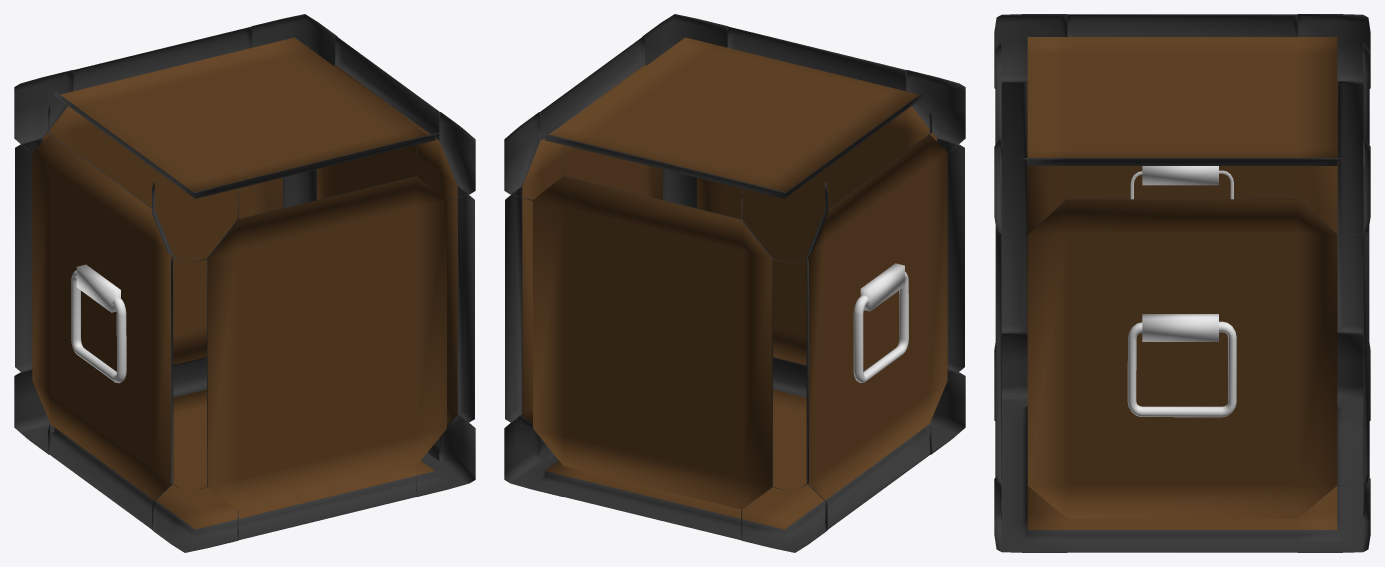
Rendered from Caisse_BasFond_Poignee.fbx.
The picture shows the model from 3 angles, left to right: view 1: azimuth 30°, elevation 25°; view 2: azimuth 150°, elevation 25°; view 3: azimuth 270°, elevation 25°; orthographic projection. The views are drawn at different scales.
Visible parts, largest first — view 1: Cube.002; view 2: Cube.002; view 3: Cube.002.
Boxes of the visible parts, x1,y1,x2,y2 form: Cube.002: (14,14,475,552); Cube.002: (504,14,965,552); Cube.002: (994,14,1370,552).
Bounding box in the file's own units: 93.76 × 103 × 91.3.
